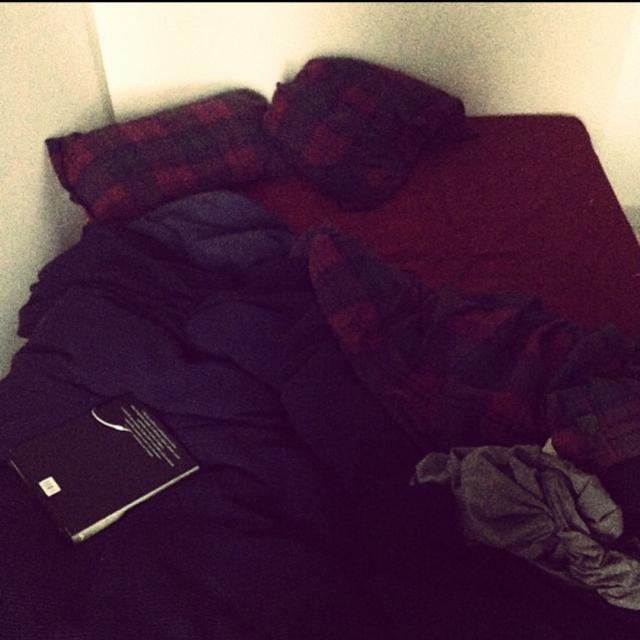bed: (0, 24, 628, 640)
